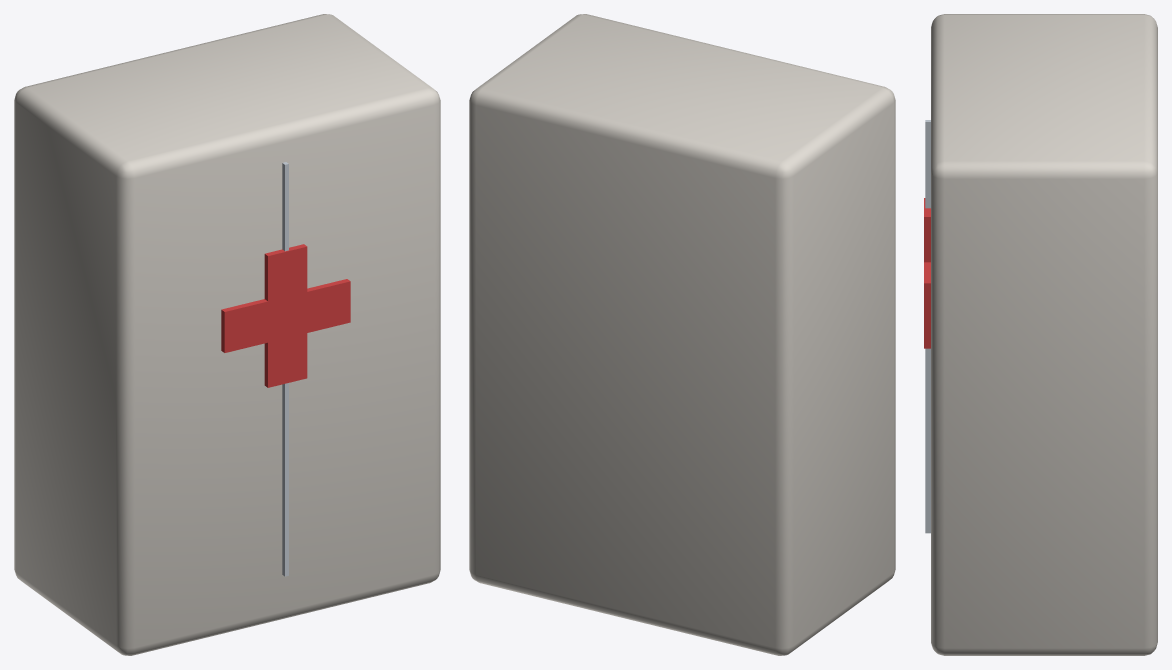
File: medcab.glb
3 views of the same model, side by side, from view 1: azimuth 30°, elevation 25°; view 2: azimuth 150°, elevation 25°; view 3: azimuth 270°, elevation 25° (orthographic).
Parts seen in each view (by area): view 1: body.028, crossH.001, crossV.001, seam.001; view 2: body.028; view 3: body.028, seam.001, crossV.001, crossH.001.
Boxes of the visible parts, x1,y1,x2,y2 form: body.028: [14, 14, 440, 655]; crossH.001: [221, 279, 350, 352]; crossV.001: [264, 244, 307, 387]; seam.001: [282, 162, 288, 576]; body.028: [469, 14, 895, 655]; body.028: [931, 14, 1157, 655]; seam.001: [925, 120, 930, 533]; crossV.001: [924, 198, 930, 348]; crossH.001: [924, 262, 930, 324].
Bounding box in the file's own units: 0.82 × 1.2 × 0.515.
